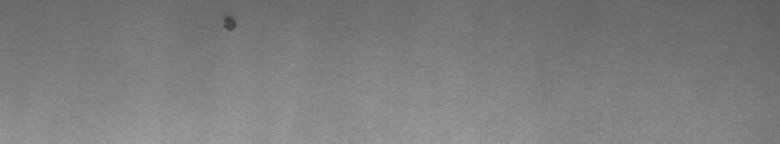fi: (220, 8, 240, 37)
